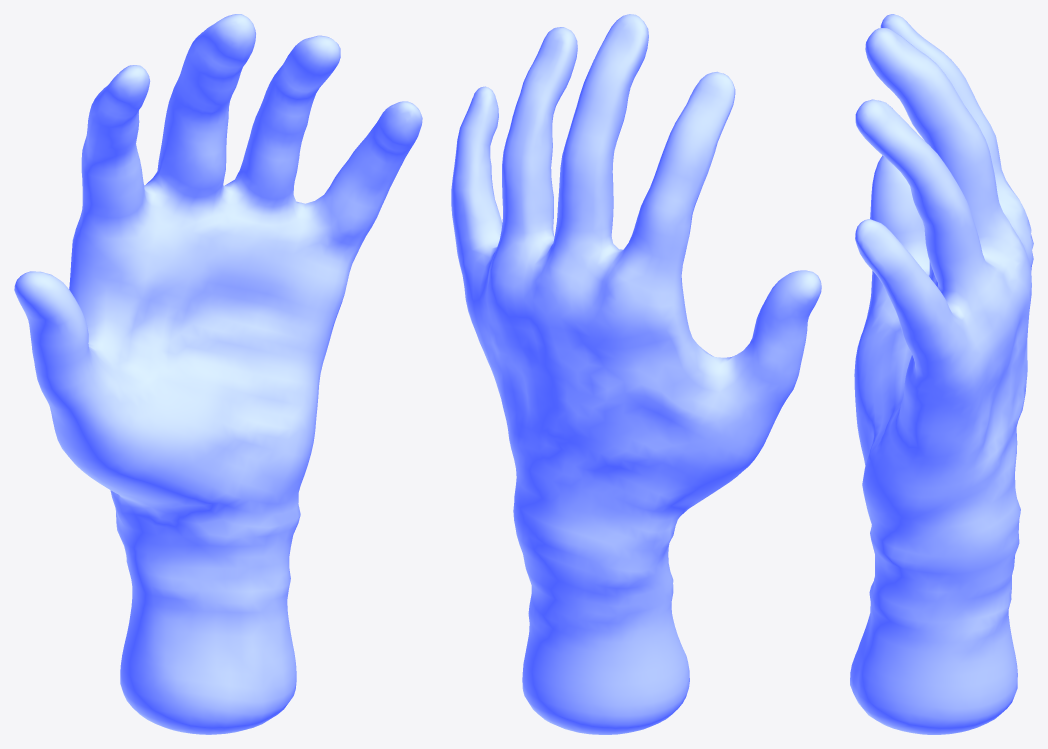
Rendered from Hand.glb.
The picture shows the model from 3 angles, left to right: view 1: azimuth 30°, elevation 25°; view 2: azimuth 150°, elevation 25°; view 3: azimuth 270°, elevation 25°; orthographic projection. The views are drawn at different scales.
Parts seen in each view (by area): view 1: Skin_Hand; view 2: Skin_Hand; view 3: Skin_Hand.
Part boxes in pixels (left/top/right/bottom): Skin_Hand: left=14, top=14, right=422, bottom=734; Skin_Hand: left=451, top=14, right=821, bottom=734; Skin_Hand: left=850, top=14, right=1033, bottom=734.
Bounding box in the file's own units: 1.12 × 2 × 0.4821.
